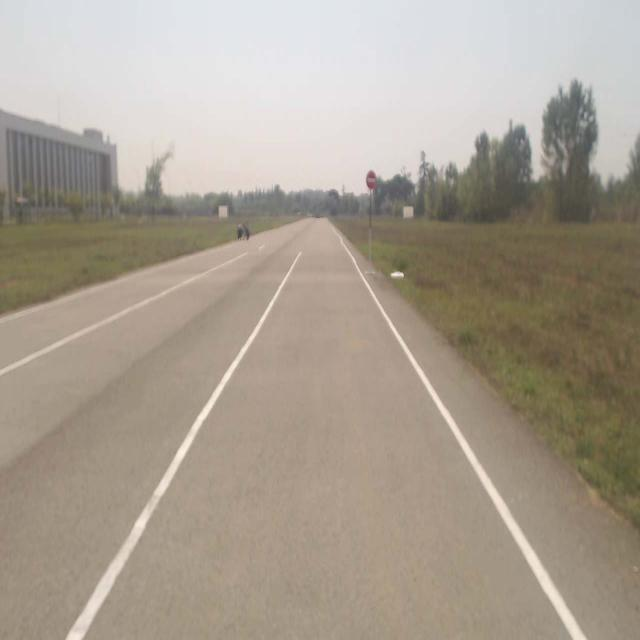girisyok: (366, 171, 376, 189)
